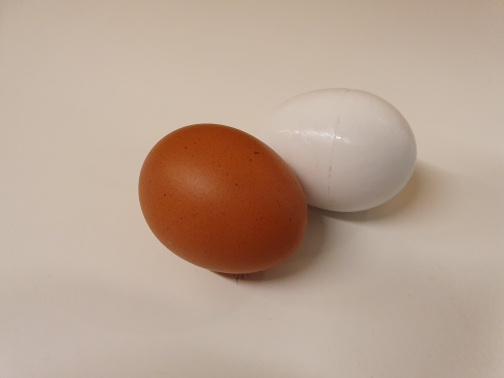egg: (138, 124, 309, 277), (257, 89, 419, 217)
